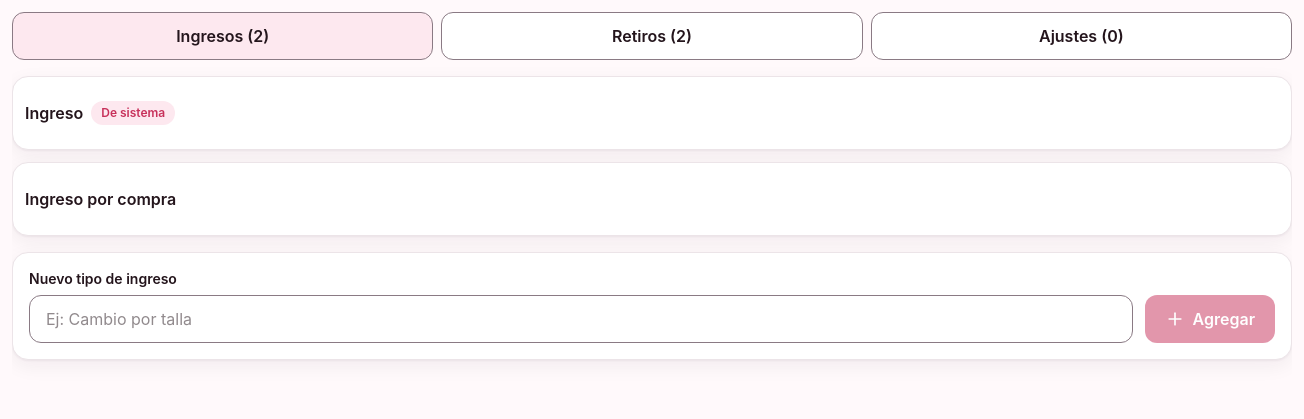
Test: Tipos — crear un tipo lo agrega a la clase elegida y anuncia el resultado
This screenshot has width=1304, height=419.
Expected: the text "Ingreso por compra" is shown, [25,187,176,211]
Type "Cambio por talla" into the field labelled "Nuevo tipo de ingreso". click: x=581, y=319
box: [29,295,1133,343]
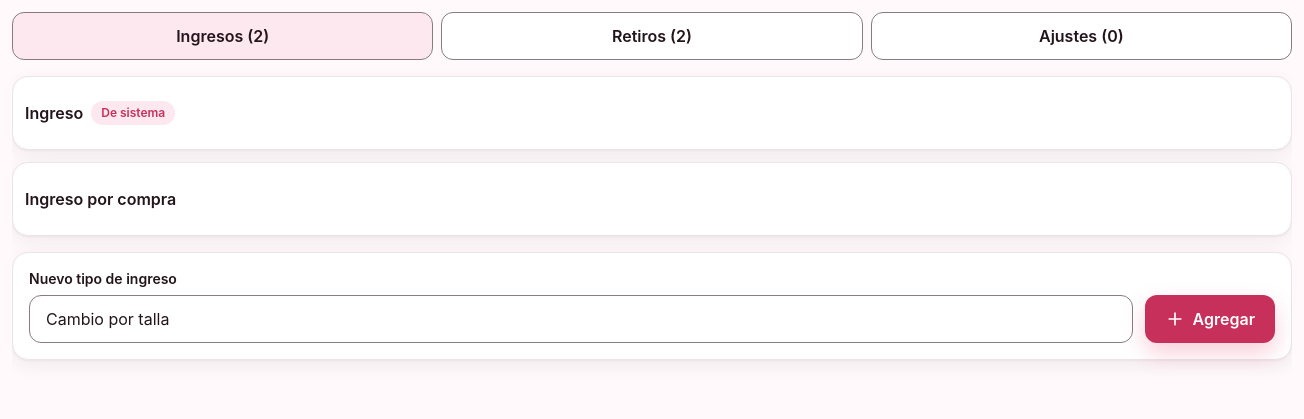
Click the button "Agregar". click: x=1210, y=319
box: [1145,295,1275,343]
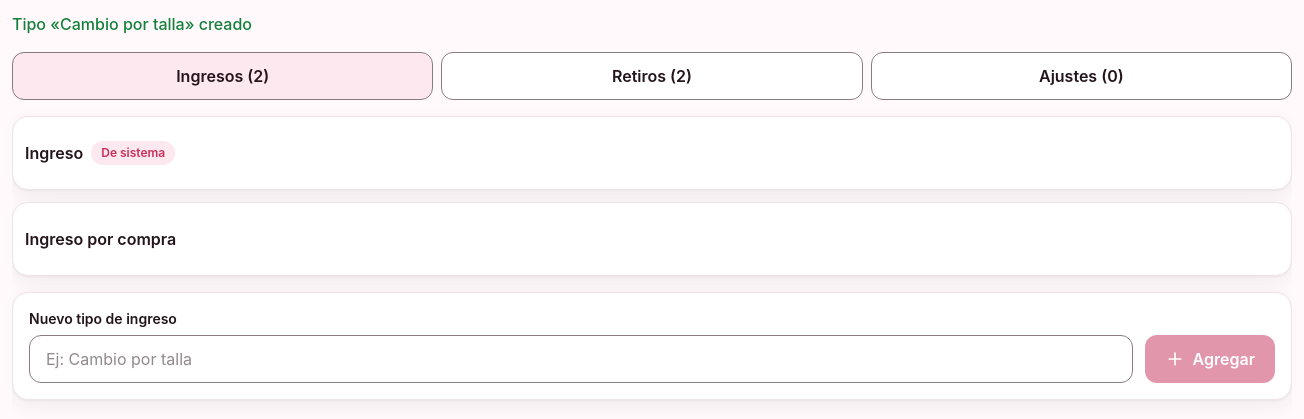
Now the text "Tipo «Cambio por talla» creado" is shown, box [12,14,252,34]
Now the field labelled "Nuevo tipo de ingreso" is empty, box [29,335,1133,383]
